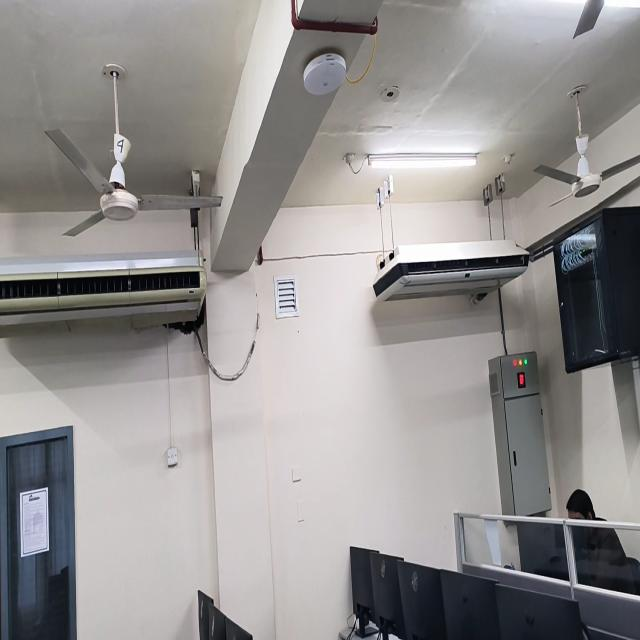Ac: (0, 249, 207, 326), (372, 240, 530, 301), (495, 584, 584, 639)
Light: (342, 152, 478, 174)
Monitor: (495, 584, 584, 639), (440, 571, 500, 639), (397, 560, 447, 639), (371, 553, 406, 639), (350, 546, 379, 637), (198, 590, 216, 639), (208, 601, 226, 639), (378, 574, 400, 605), (225, 617, 252, 639)
